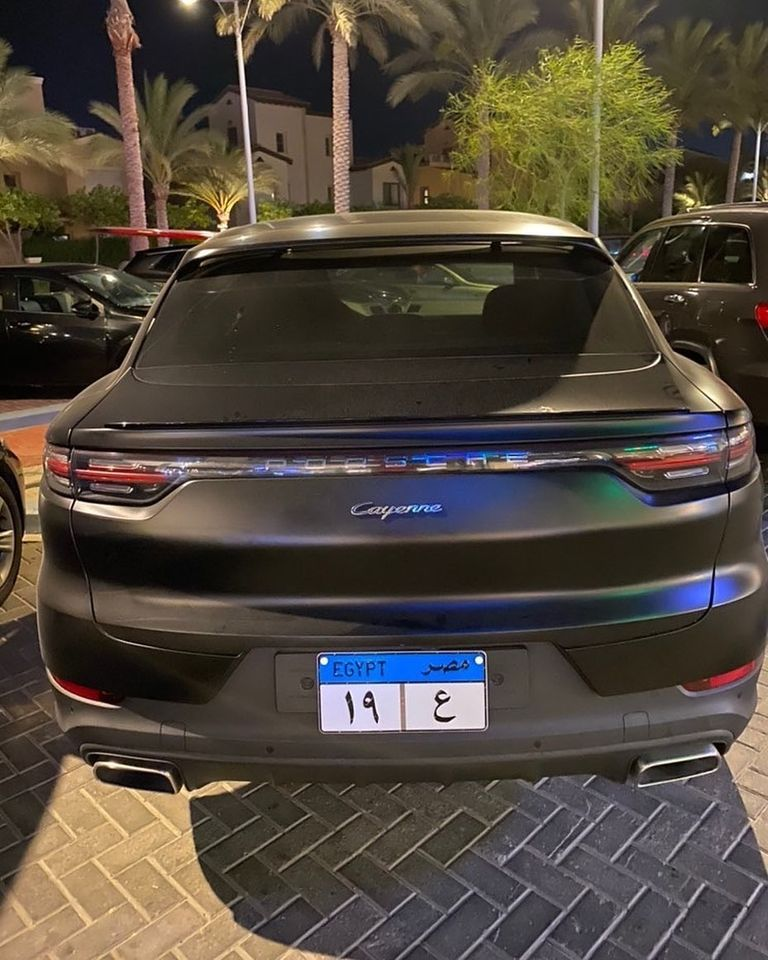carpl: (321, 671, 484, 725)
